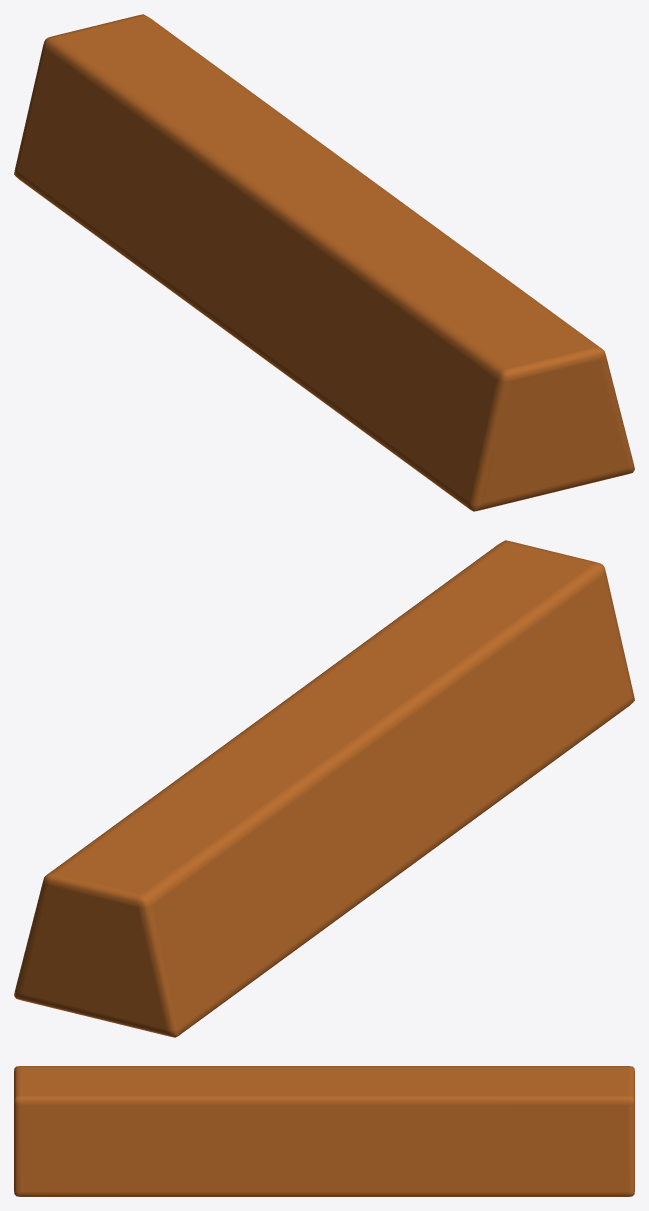
The model's file is Top Left Detail.fbx.
3 renders of one model, top to bottom at view 1: azimuth 30°, elevation 25°; view 2: azimuth 150°, elevation 25°; view 3: azimuth 270°, elevation 25°, orthographic. The views are drawn at different scales.
Parts seen in each view (by area): view 1: Top_Left_Detail; view 2: Top_Left_Detail; view 3: Top_Left_Detail.
Boxes of the visible parts, x1,y1,x2,y2 form: Top_Left_Detail: (14, 14, 634, 511); Top_Left_Detail: (14, 540, 634, 1037); Top_Left_Detail: (14, 1066, 634, 1196).
Size of the model in its own units: 7.63 by 5.89 by 37.08.
